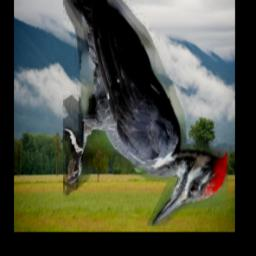Woodpecker: (64, 0, 229, 227)
